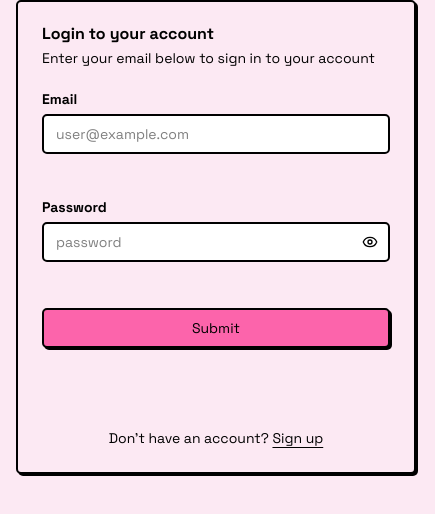
Test: SignInForm › email should contain an '@' symbol separating local part and domain name
Type "popiqueTheCat" into the field with test id "email-input" at (216,134), box [42,114,390,154]
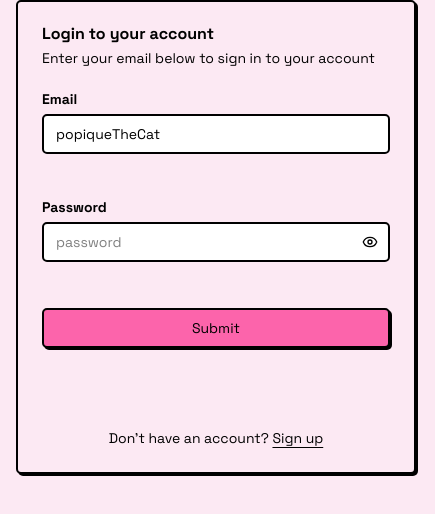
Click the button "Submit" at (216,328), box [42,308,390,348]
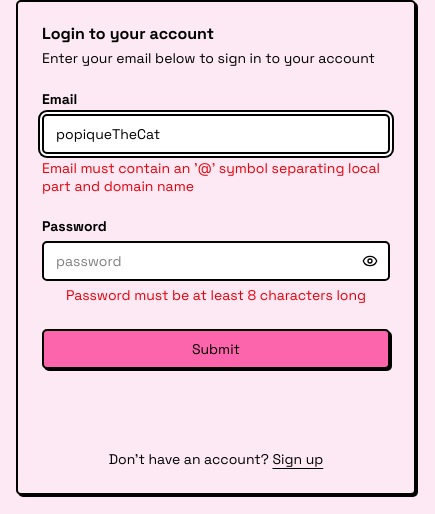
Expected: the text "Email must contain an '@' symbol separating local part and domain name" is shown, [42,160,390,195]
